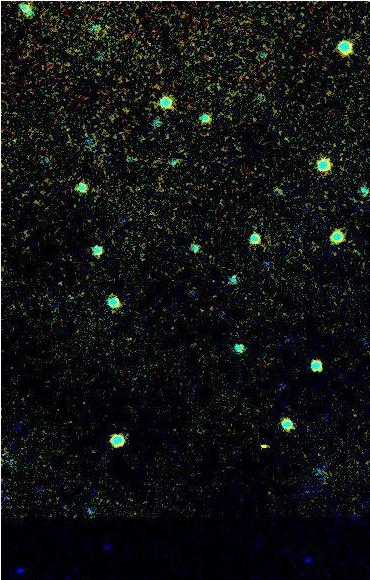star: (248, 428, 278, 458)
